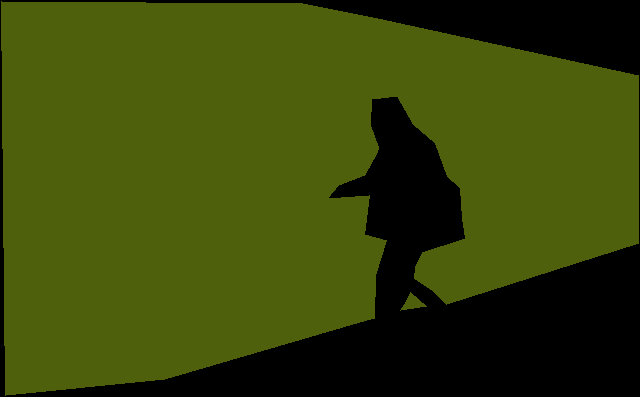Train: (1, 1, 638, 395)
